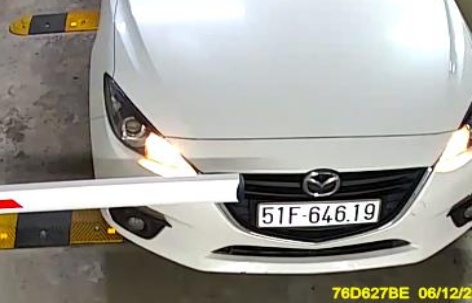plate: (255, 197, 384, 234)
